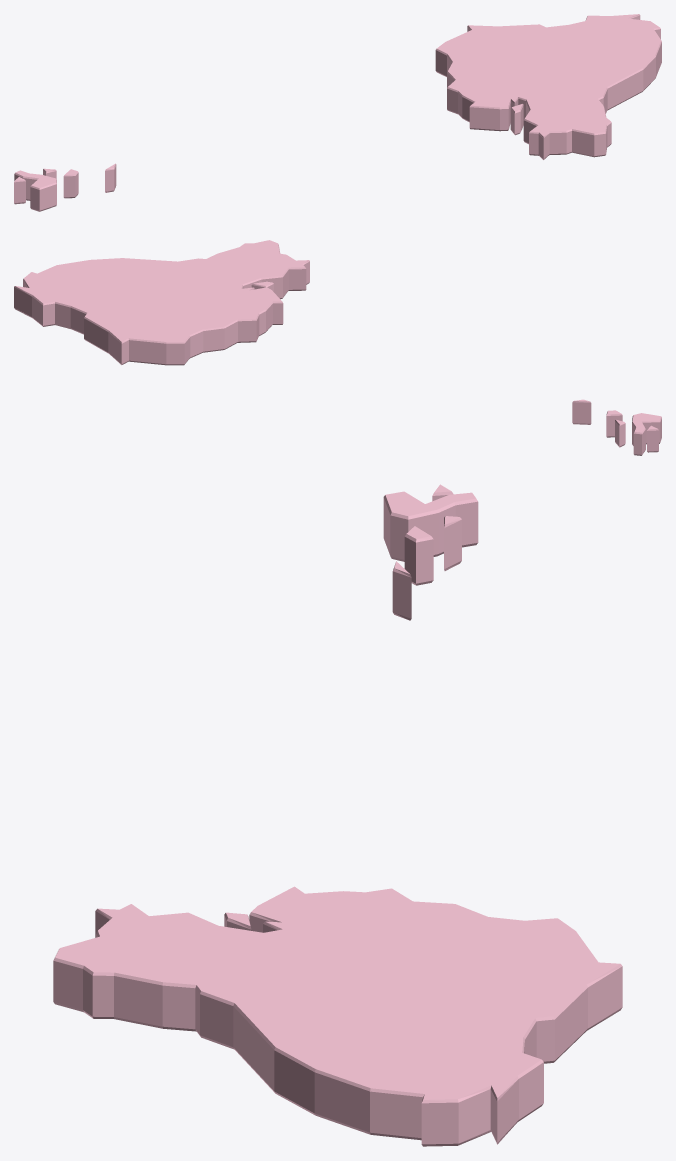
Rendered from ECU.glb.
The picture shows the model from 3 angles, top to bottom: view 1: azimuth 30°, elevation 25°; view 2: azimuth 150°, elevation 25°; view 3: azimuth 270°, elevation 25°; orthographic projection. The views are drawn at different scales.
Size of the model in its own units: 1.93 by 0.068 by 0.7526.
